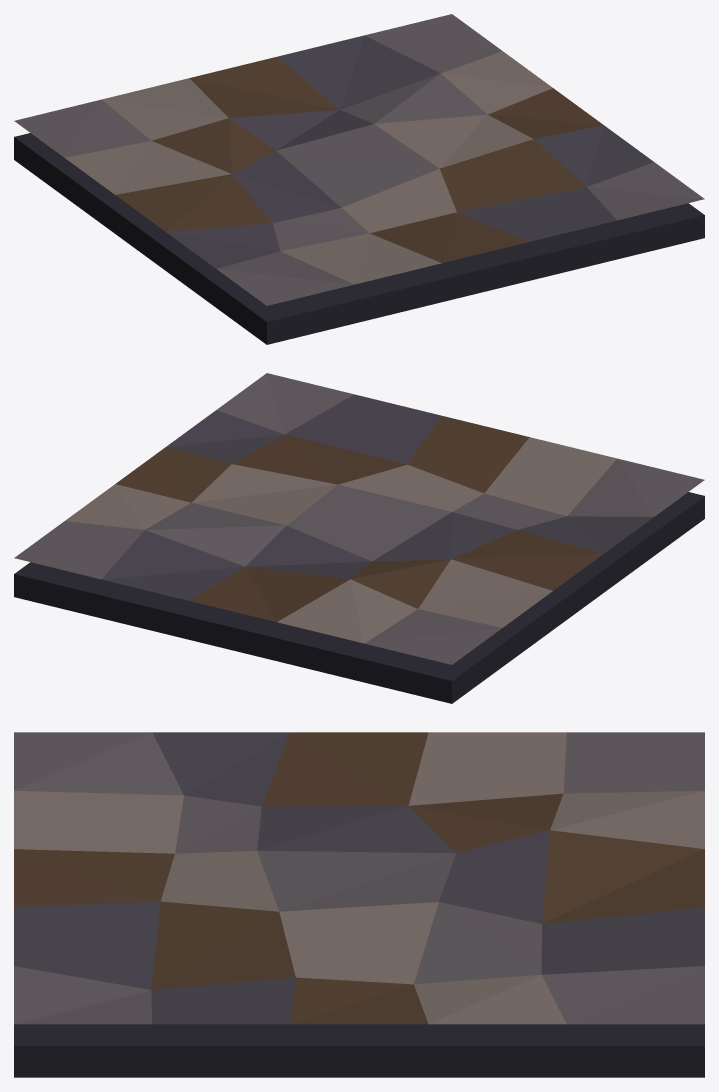
Rendered from floor_cave.fbx.
3 views of the same model, one above another, from view 1: azimuth 30°, elevation 25°; view 2: azimuth 150°, elevation 25°; view 3: azimuth 270°, elevation 25° (orthographic). The views are drawn at different scales.
Visible parts, largest first — view 1: floor_cave; view 2: floor_cave; view 3: floor_cave.
Boxes of the visible parts, x1,y1,x2,y2 form: floor_cave: (14,14,704,344); floor_cave: (14,373,704,703); floor_cave: (14,732,704,1077).
Size of the model in its own units: 4 by 0.3887 by 4.
